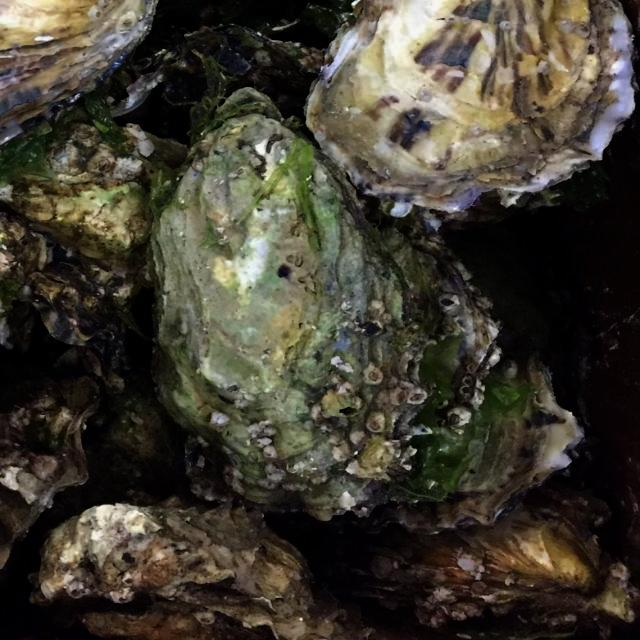Oyster-Closed: (151, 90, 500, 515), (305, 0, 636, 213), (318, 486, 635, 639), (332, 352, 580, 532), (38, 331, 219, 528), (0, 84, 159, 286), (0, 1, 156, 143), (0, 375, 101, 584), (23, 252, 142, 391), (442, 231, 572, 355), (160, 24, 324, 109), (0, 215, 68, 356)
Oyster-Open: (31, 500, 434, 640)
